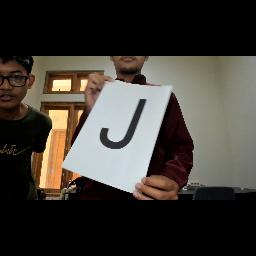j: (98, 96, 146, 152)
